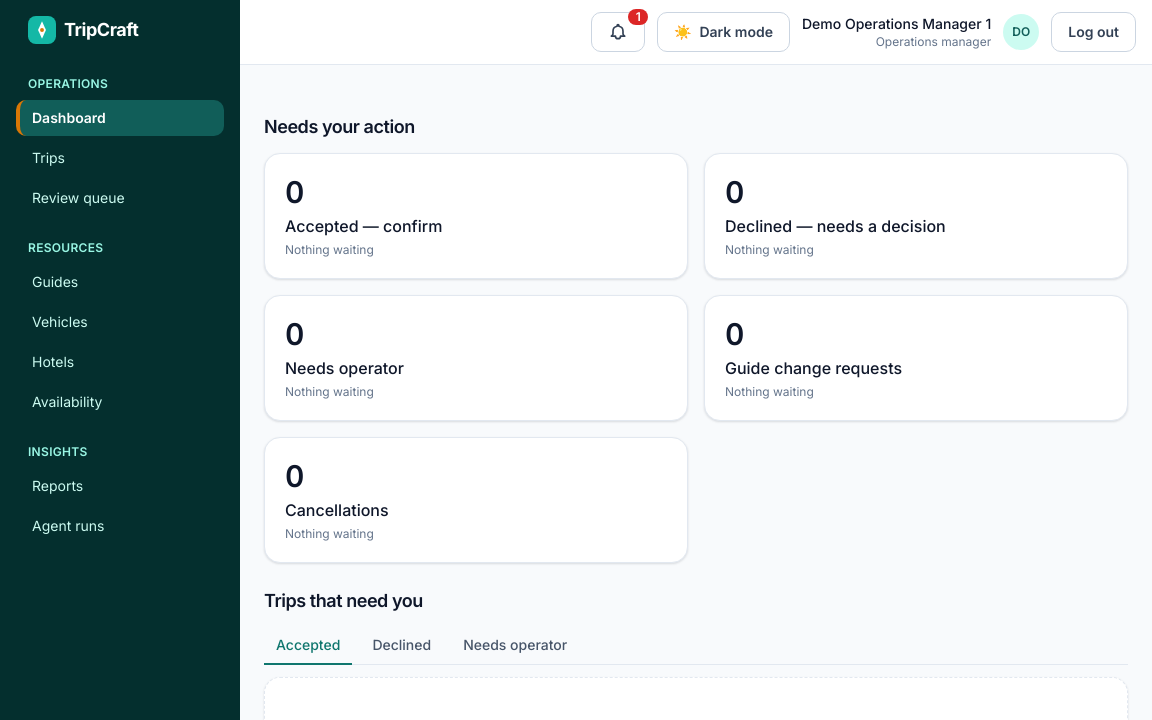
Scenario: Notification bell › marks all notifications read
The image size is (1152, 720).
Click the button named "Notifications, 1 unread" at [618, 32], box [591,12,645,52]
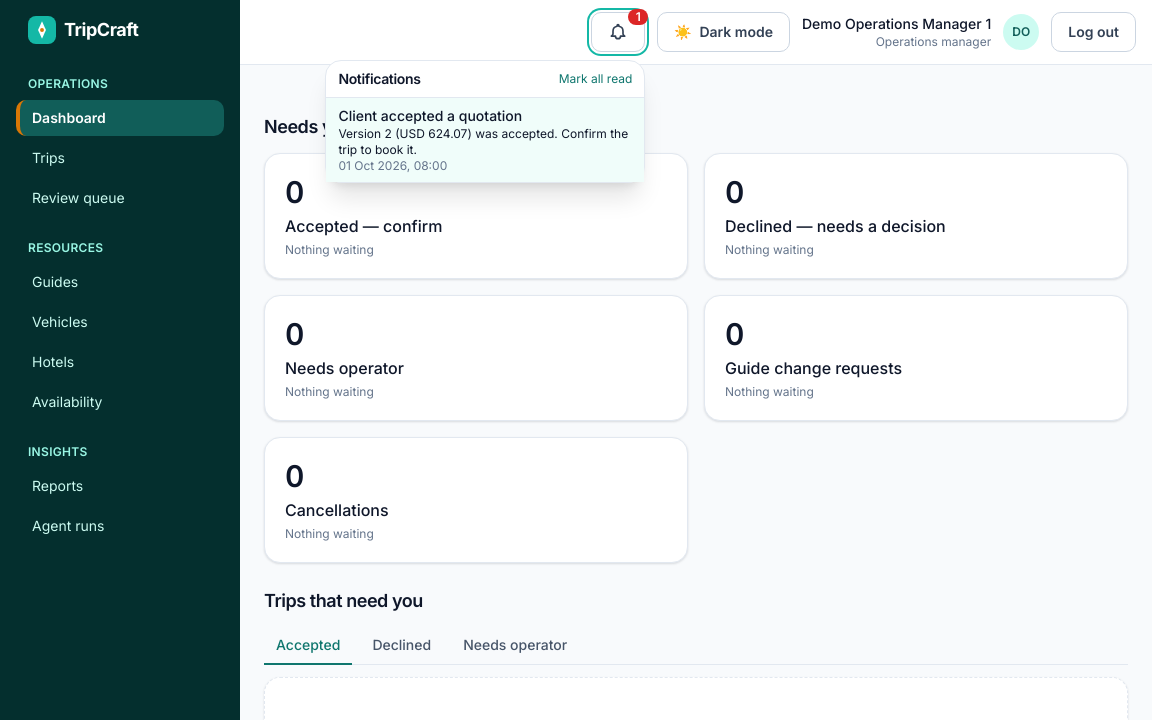
Click the button "Mark all read" at [596, 79], box [559,71,632,87]
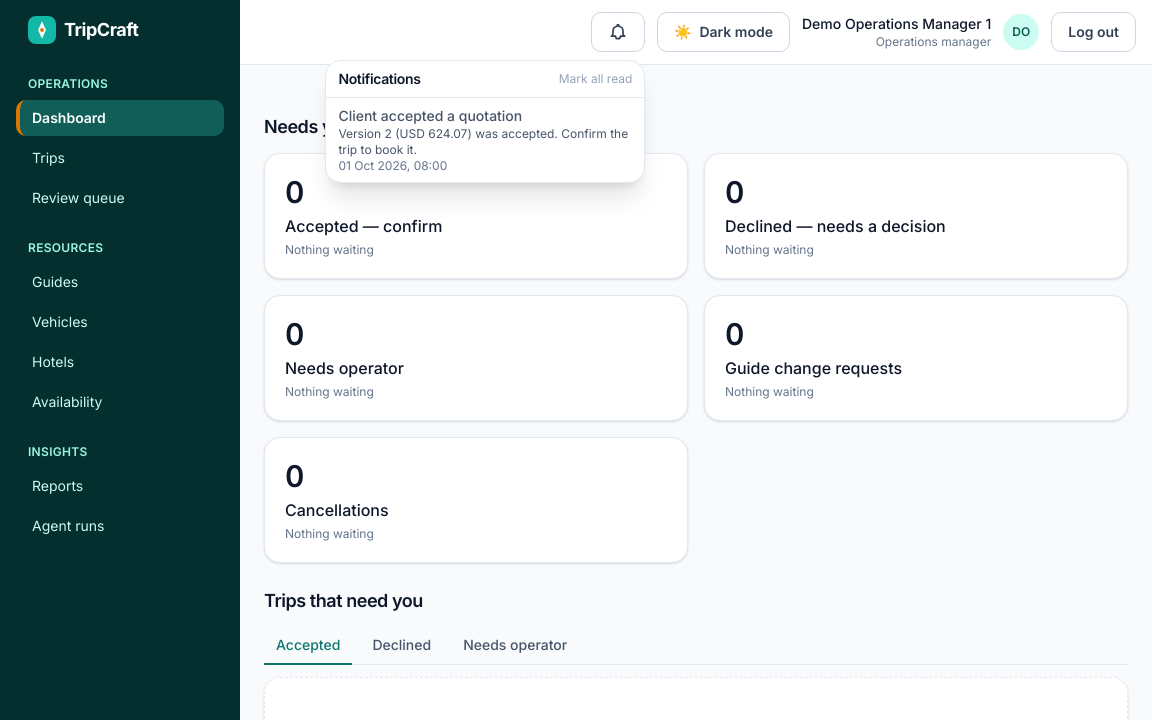
Result: the button named "Notifications, 0 unread" is shown at [591,12,645,52]
